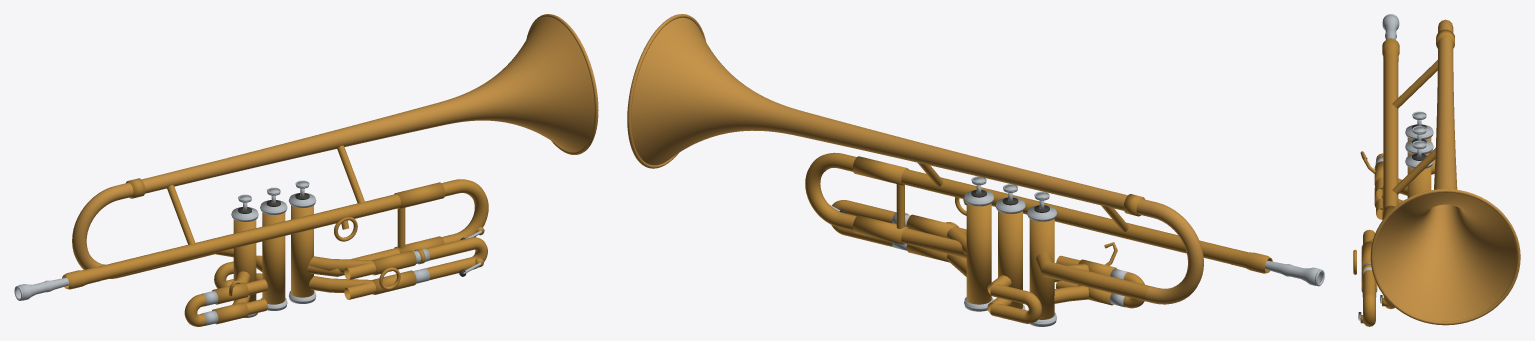
The model's file is trumpet-master-candidate.glb.
The picture shows the model from 3 angles, left to right: view 1: azimuth 30°, elevation 25°; view 2: azimuth 150°, elevation 25°; view 3: azimuth 270°, elevation 25°; orthographic projection. The views are drawn at different scales.
Parts seen in each view (by area): view 1: One-piece tapered bell body, 123 mm rim, Leadpipe to main tuning receiver, THIRD_SLIDE__paired_inner_shanks_and_crook, Valve 2 casing, Valve 3 casing, Bell return bow, Main tuning connected U, FIRST_SLIDE__paired_inner_shanks_and_crook, Valve 1 casing, Rolled bell rim, Main tuning upper female sleeve, Third valve lower port elbow (+10 smaller); view 2: One-piece tapered bell body, 123 mm rim, Leadpipe to main tuning receiver, Valve 3 casing, Bell return bow, Bell outlet from first valve, Valve 1 casing, Main tuning connected U, Valve 2 casing, Second valve fixed branch, THIRD_SLIDE__paired_inner_shanks_and_crook, Rolled bell rim, Main tuning return to third valve (+7 smaller); view 3: One-piece tapered bell body, 123 mm rim, Leadpipe to main tuning receiver, Rolled bell rim, THIRD_SLIDE__paired_inner_shanks_and_crook, Valve 3 casing, Leadpipe to bell brace, Front bell to leadpipe brace, Removable mouthpiece cup and shank, FIRST_SLIDE__paired_inner_shanks_and_crook, Mouthpiece receiver, Third slide upper female sleeve, Valve 2 top cap (+4 smaller).
Part boxes in pixels (left/top/right/bottom): One-piece tapered bell body, 123 mm rim: left=116, top=17, right=594, bottom=199; Leadpipe to main tuning receiver: left=98, top=194, right=400, bottom=280; THIRD_SLIDE__paired_inner_shanks_and_crook: left=344, top=237, right=487, bottom=299; Valve 2 casing: left=262, top=212, right=285, bottom=304; Valve 3 casing: left=291, top=205, right=313, bottom=297; Bell return bow: left=72, top=186, right=124, bottom=278; Main tuning connected U: left=441, top=179, right=488, bottom=243; FIRST_SLIDE__paired_inner_shanks_and_crook: left=184, top=279, right=267, bottom=326; Valve 1 casing: left=233, top=219, right=256, bottom=301; Rolled bell rim: left=526, top=14, right=598, bottom=154; Main tuning upper female sleeve: left=394, top=182, right=445, bottom=208; Third valve lower port elbow: left=308, top=276, right=374, bottom=294; One-piece tapered bell body, 123 mm rim: left=631, top=17, right=1155, bottom=217; Leadpipe to main tuning receiver: left=901, top=169, right=1233, bottom=263; Valve 3 casing: left=966, top=203, right=991, bottom=304; Bell return bow: left=1146, top=202, right=1203, bottom=304; Bell outlet from first valve: left=1036, top=252, right=1151, bottom=301; Valve 1 casing: left=1029, top=219, right=1054, bottom=319; Main tuning connected U: left=805, top=152, right=856, bottom=230; Valve 2 casing: left=998, top=211, right=1022, bottom=308; Second valve fixed branch: left=990, top=283, right=1041, bottom=323; THIRD_SLIDE__paired_inner_shanks_and_crook: left=831, top=200, right=966, bottom=246; Rolled bell rim: left=627, top=14, right=705, bottom=168; Main tuning return to third valve: left=901, top=228, right=966, bottom=258; One-piece tapered bell body, 123 mm rim: left=1374, top=24, right=1516, bottom=321; Leadpipe to main tuning receiver: left=1383, top=54, right=1398, bottom=209; Rolled bell rim: left=1370, top=189, right=1520, bottom=325; THIRD_SLIDE__paired_inner_shanks_and_crook: left=1363, top=229, right=1375, bottom=326; Valve 3 casing: left=1407, top=166, right=1431, bottom=197; Leadpipe to bell brace: left=1392, top=60, right=1437, bottom=108; Front bell to leadpipe brace: left=1392, top=148, right=1435, bottom=194; Removable mouthpiece cup and shank: left=1382, top=15, right=1399, bottom=39; FIRST_SLIDE__paired_inner_shanks_and_crook: left=1376, top=153, right=1383, bottom=219; Mouthpiece receiver: left=1382, top=38, right=1399, bottom=61; Third slide upper female sleeve: left=1361, top=241, right=1372, bottom=269; Valve 2 top cap: left=1406, top=139, right=1432, bottom=153.
Size of the model in its own units: 0.5766 by 0.1966 by 0.1407.
